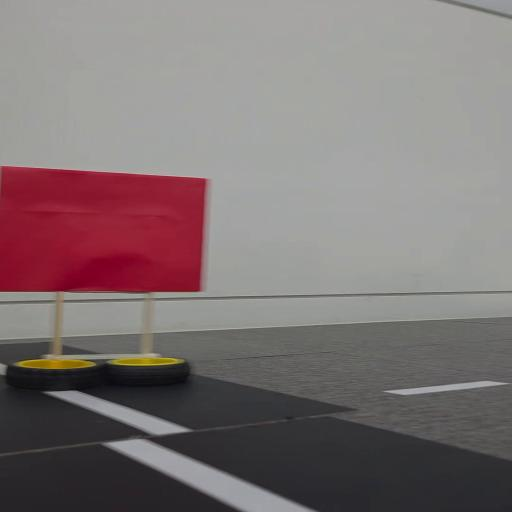Sign_A: (2, 164, 230, 388)
